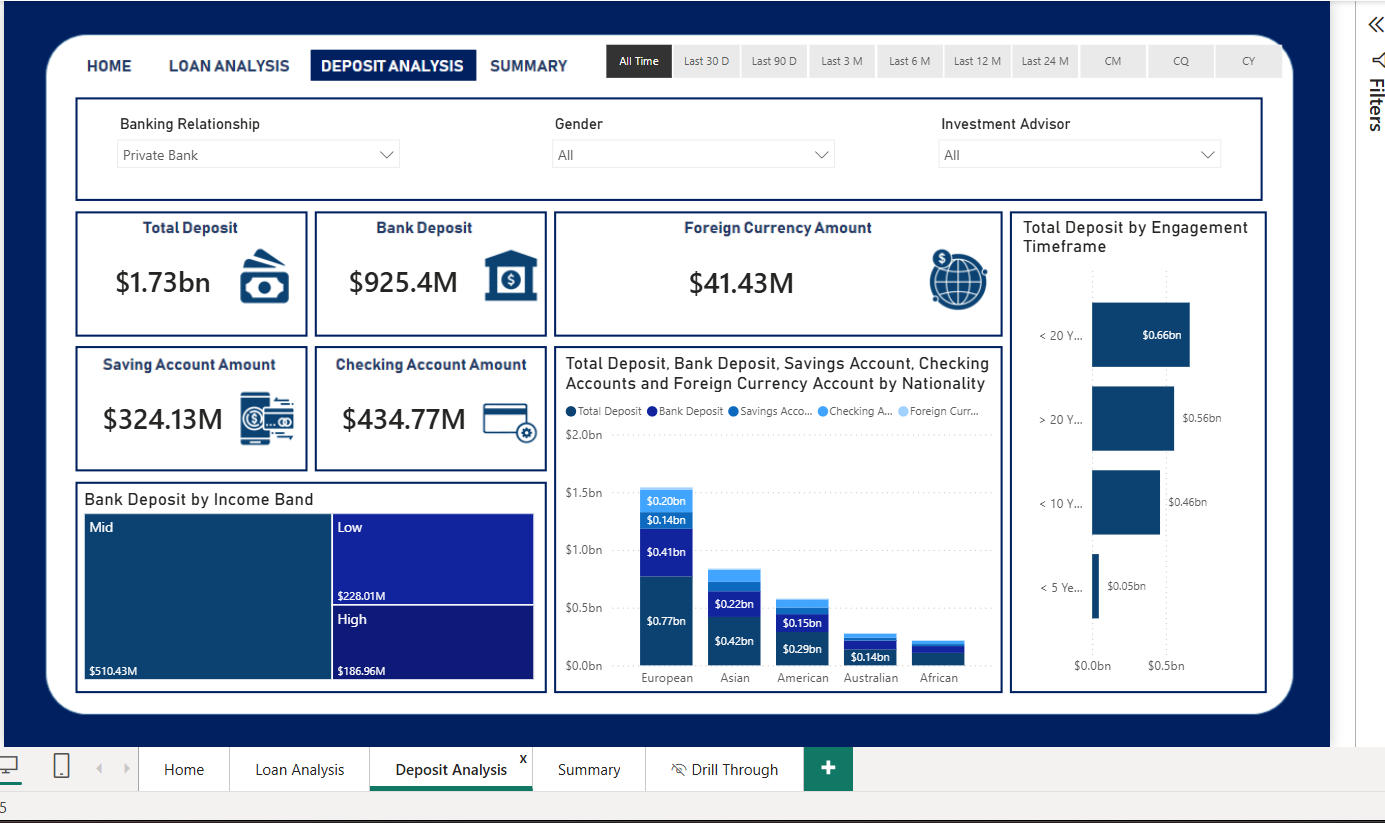

The page's visual inventory and layout, read from the dashboard file:
{"tool":"powerbi","page":{"name":"Deposit Analysis","canvas":[1280,720],"ordinal":2},"visuals":[{"type":"card","fields":{"Values":["DAX Measures.Total Deposit"]},"box":[72.7,226.3,161.8,90.3],"z":0},{"type":"card","fields":{"Values":["DAX Measures.Bank Deposit"]},"box":[299,226.3,172.4,89.1],"z":1000},{"type":"card","fields":{"Values":["DAX Measures.Savings Account"]},"box":[72.7,360,161.8,89.1],"z":2000},{"type":"card","fields":{"Values":["DAX Measures.Checking Accounts"]},"box":[300.2,360,171.2,89.1],"z":3000},{"type":"slicer","fields":{"Values":["Banking Relationship.Banking Relationship"]},"box":[98.5,105.2,292.9,75.7],"z":4000},{"type":"slicer","fields":{"Values":["Gender.Gender"]},"box":[518.9,105.2,292.9,75.7],"z":5000},{"type":"slicer","fields":{"Values":["Investment Advisor.Investment Advisor"]},"box":[891.3,105.2,292.9,75.7],"z":6000},{"type":"card","fields":{"Values":["DAX Measures.Foreign Currency Account"]},"box":[537.1,227.5,349.4,89.1],"z":7000},{"type":"treemap","fields":{"Group":["Clients - Banking.Income Band"],"Values":["DAX Measures.Bank Deposit"]},"box":[72.7,470.2,444.4,190],"z":8000},{"type":"columnChart","fields":{"Category":["Clients - Banking.Nationality"],"Y":["DAX Measures.Total Deposit","DAX Measures.Bank Deposit","DAX Measures.Savings Account","DAX Measures.Checking Accounts","DAX Measures.Foreign Currency Account"]},"box":[537.1,338.9,423.3,331.9],"z":9000},{"type":"clusteredBarChart","fields":{"Category":["Clients - Banking.Engagement Timeframe"],"Y":["DAX Measures.Total Deposit"]},"box":[978,207.6,234.5,452.6],"z":10000},{"type":"slicer","fields":{"Values":["Period.Name"]},"box":[555.2,34.6,702.1,46.6],"z":11000},{"type":"actionButton","box":[72.8,44.2,58.5,31],"z":12000},{"type":"actionButton","box":[160,44.2,119.4,31],"z":13000},{"type":"actionButton","box":[471.6,44.2,83.6,31],"z":14000}]}

Visuals, with their boxes on the page's 1280x720 design canvas (x1, y1, x2, y2). These are canvas units, not pixel positions in the 1385x823 screenshot, which may show the page scaled, cropped or inside an application window:
card - DAX Measures.Total Deposit: {"left": 73, "top": 226, "right": 234, "bottom": 317}
card - DAX Measures.Bank Deposit: {"left": 299, "top": 226, "right": 471, "bottom": 315}
card - DAX Measures.Savings Account: {"left": 73, "top": 360, "right": 234, "bottom": 449}
card - DAX Measures.Checking Accounts: {"left": 300, "top": 360, "right": 471, "bottom": 449}
slicer - Banking Relationship.Banking Relationship: {"left": 98, "top": 105, "right": 391, "bottom": 181}
slicer - Gender.Gender: {"left": 519, "top": 105, "right": 812, "bottom": 181}
slicer - Investment Advisor.Investment Advisor: {"left": 891, "top": 105, "right": 1184, "bottom": 181}
card - DAX Measures.Foreign Currency Account: {"left": 537, "top": 228, "right": 886, "bottom": 317}
treemap - Clients - Banking.Income Band x DAX Measures.Bank Deposit: {"left": 73, "top": 470, "right": 517, "bottom": 660}
columnChart - Clients - Banking.Nationality x DAX Measures.Total Deposit: {"left": 537, "top": 339, "right": 960, "bottom": 671}
clusteredBarChart - Clients - Banking.Engagement Timeframe x DAX Measures.Total Deposit: {"left": 978, "top": 208, "right": 1212, "bottom": 660}
slicer - Period.Name: {"left": 555, "top": 35, "right": 1257, "bottom": 81}
actionButton: {"left": 73, "top": 44, "right": 131, "bottom": 75}
actionButton: {"left": 160, "top": 44, "right": 279, "bottom": 75}
actionButton: {"left": 472, "top": 44, "right": 555, "bottom": 75}
